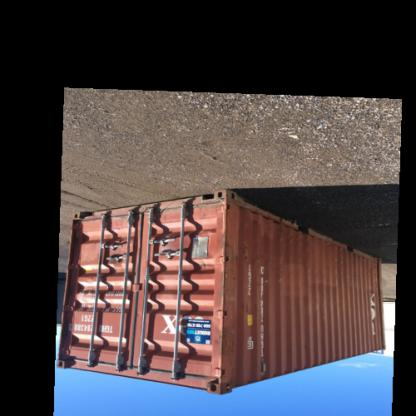Damage: (194, 191, 226, 213), (214, 247, 238, 275), (214, 288, 242, 312), (214, 323, 234, 354), (291, 221, 309, 245)
